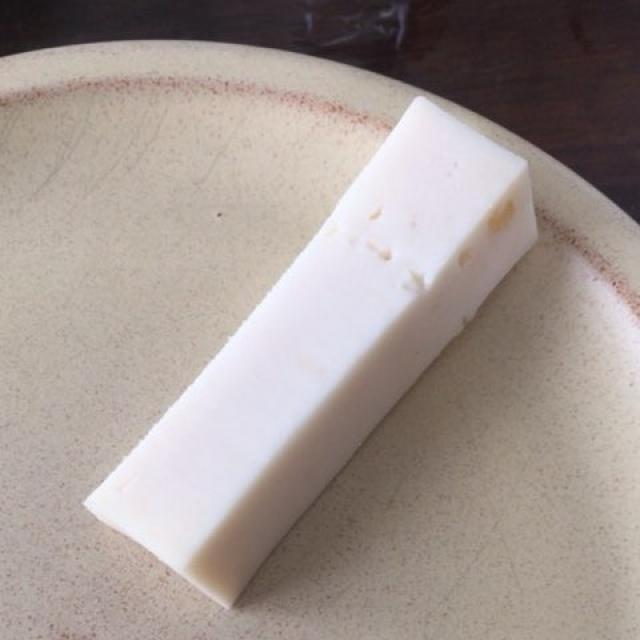cheese: (117, 131, 529, 594)
